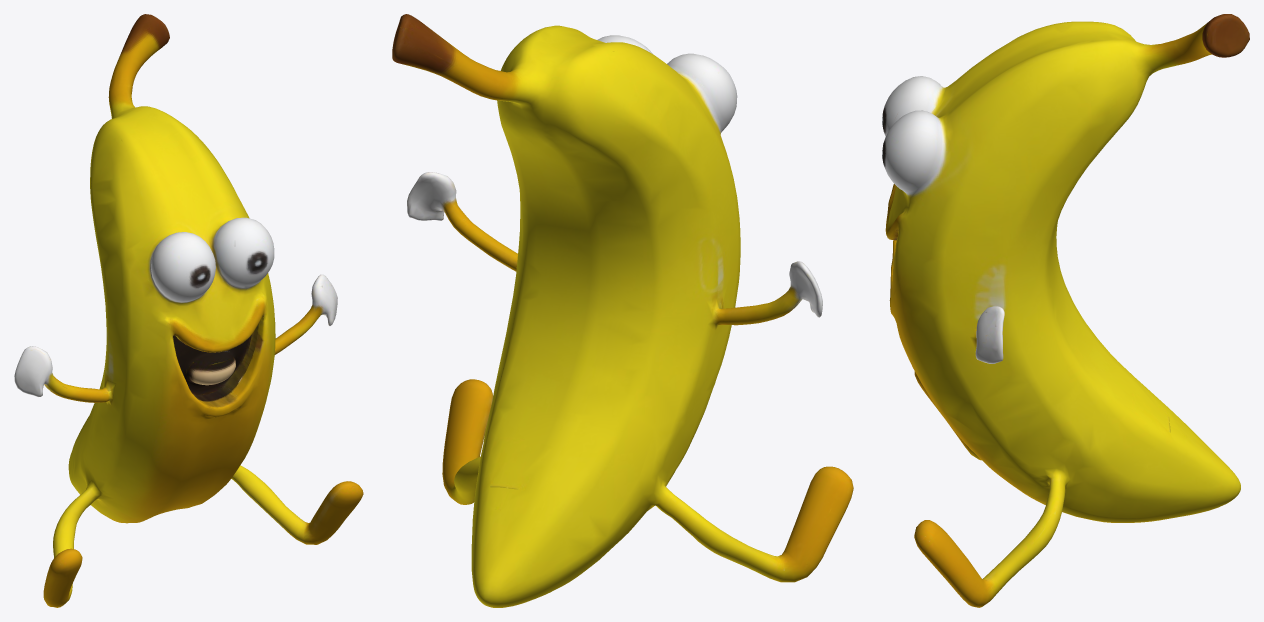
The picture shows the model from 3 angles, left to right: view 1: azimuth 30°, elevation 25°; view 2: azimuth 150°, elevation 25°; view 3: azimuth 270°, elevation 25°; orthographic projection. The views are drawn at different scales.
Parts seen in each view (by area): view 1: model; view 2: model; view 3: model.
Part boxes in pixels (x1=…): model: x1=14, y1=14, x2=363, y2=607; model: x1=392, y1=14, x2=853, y2=607; model: x1=882, y1=14, x2=1249, y2=607.
Bounding box in the file's own units: 1.36 × 1.89 × 1.13.
Materials: 1 (1 with a texture image).
